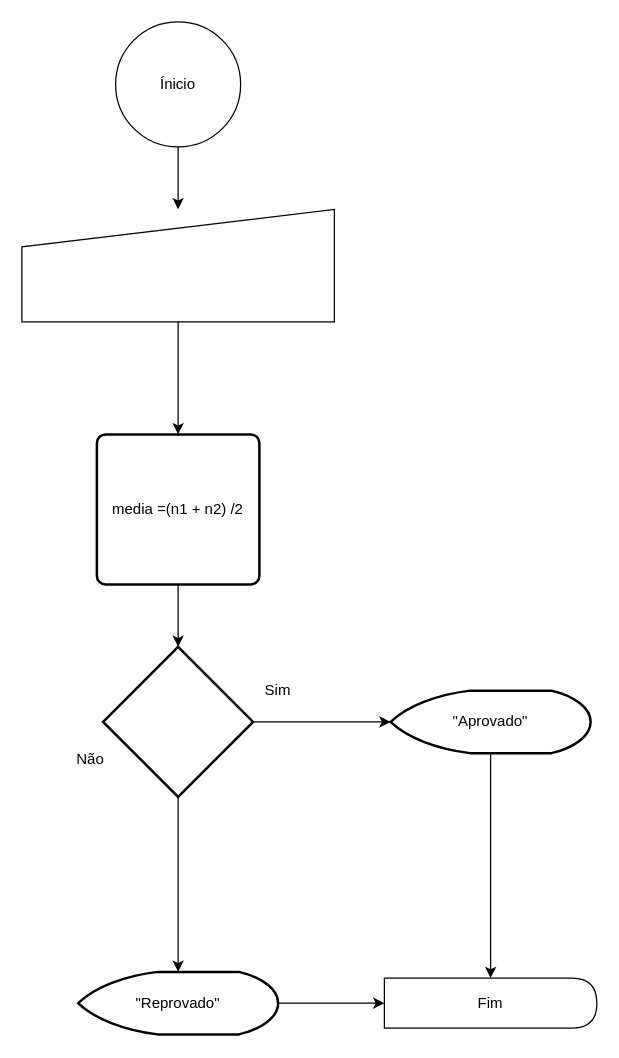
Some shapes in this 619 by 1058 pixel diagram are drawn without their labels. Each missing label, with the box of its shape:
média >=6: (101, 645, 254, 798)
Nota 1 e Nota 2: (21, 208, 334, 322)
